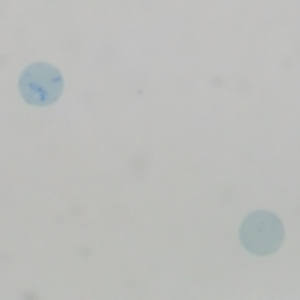aggregate reticulocyte: (16, 60, 65, 109)
erythrocyte: (237, 208, 286, 258)
